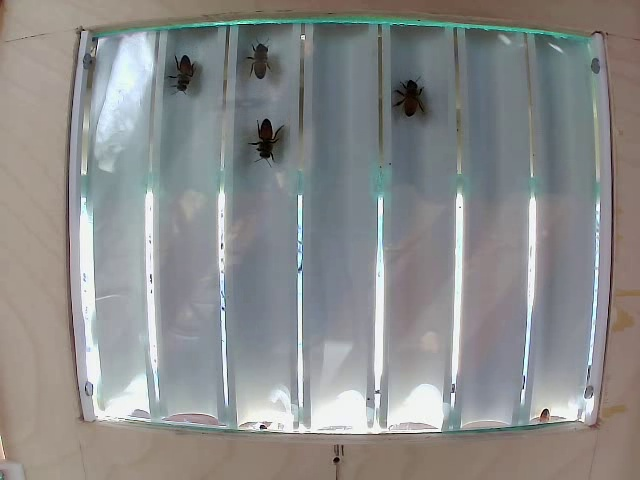bee: (235, 35, 288, 86), (163, 58, 210, 102), (397, 71, 435, 120), (246, 120, 282, 166)
